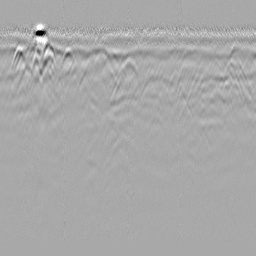cavity: (111, 55, 141, 91)
